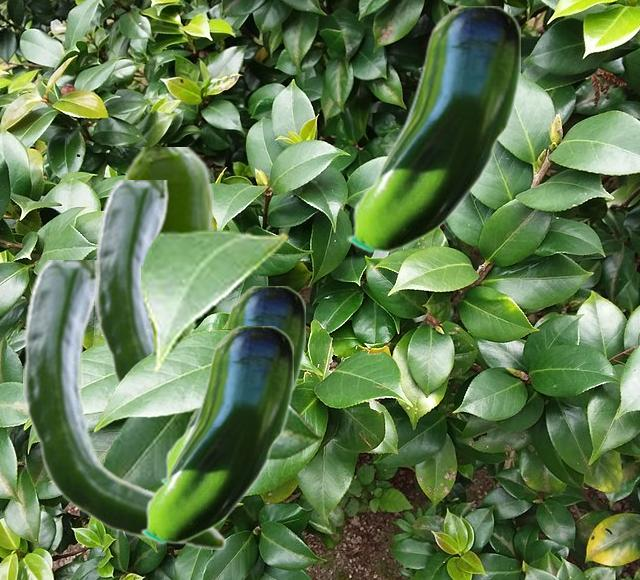green_chili: (23, 260, 226, 548), (346, 6, 519, 253), (140, 326, 292, 544), (159, 286, 304, 483), (103, 147, 212, 405), (95, 180, 172, 386)
